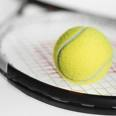tennis ball: (52, 25, 114, 86)
